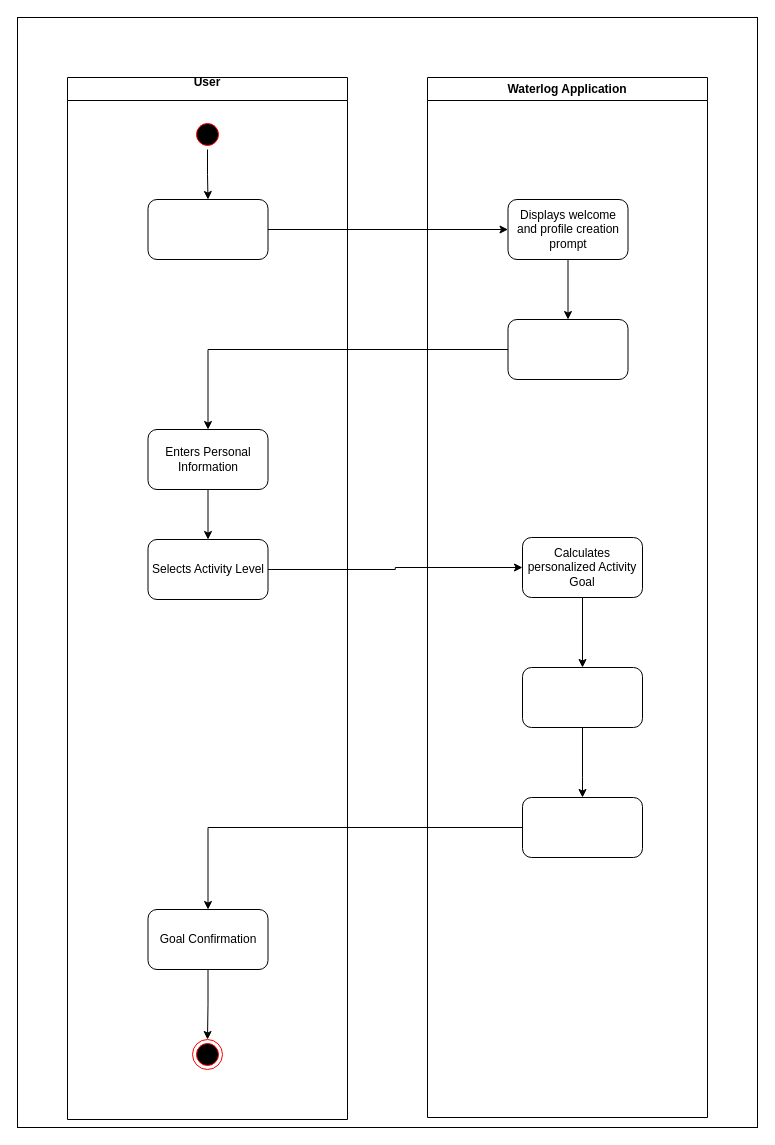
The diagram is 775 pixels wide and 1145 high, and some of its shapes have lost their labels. Each missing label, with the centre of its shape:
"Displays input fields for personal information" goes at pixel 567 349.
"Explains rationale behind goal" goes at pixel 582 697.
"Goal Review" goes at pixel 582 827.
"Opens Application" goes at pixel 207 229.
